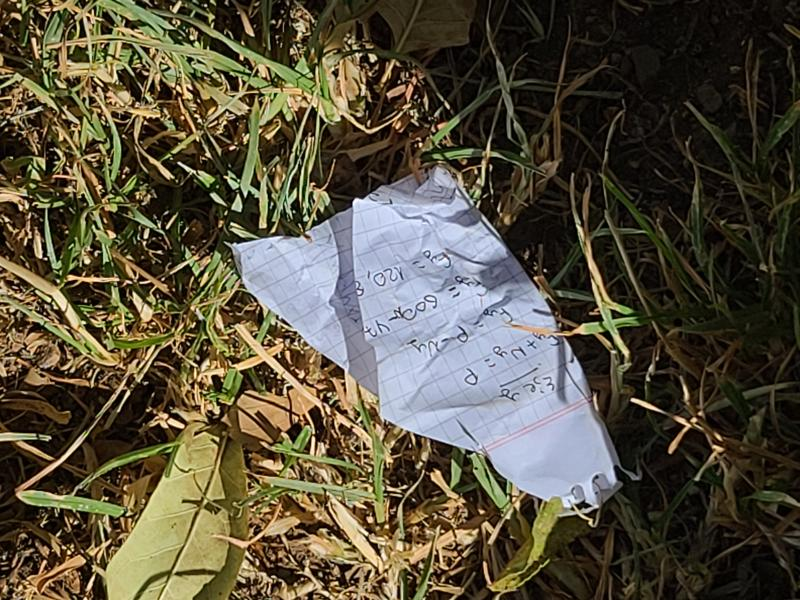papel: (231, 167, 624, 513)
